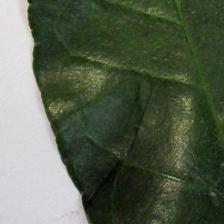healthy: (27, 0, 224, 224)
